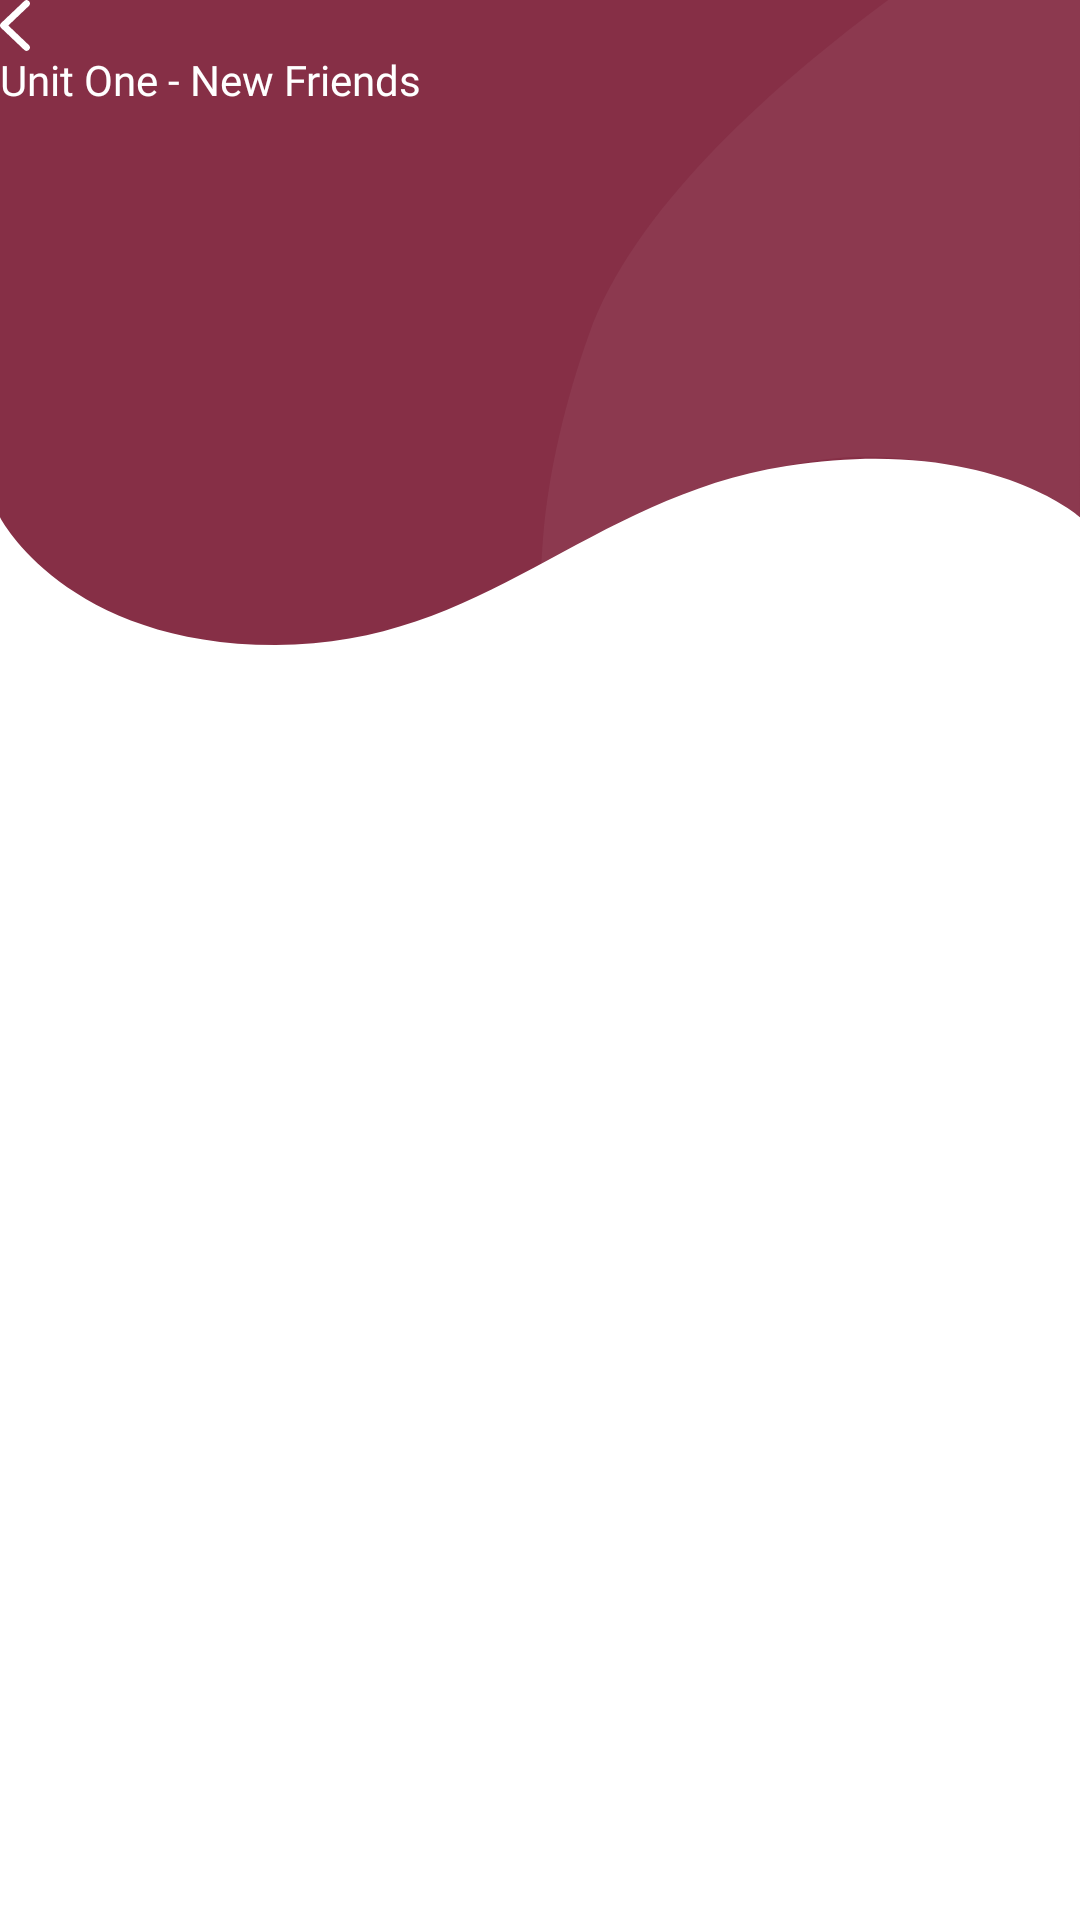

Point at icon controls on the screen. Image size 1080px x 1920px, points as point (x, y).
back: point (15, 25)
